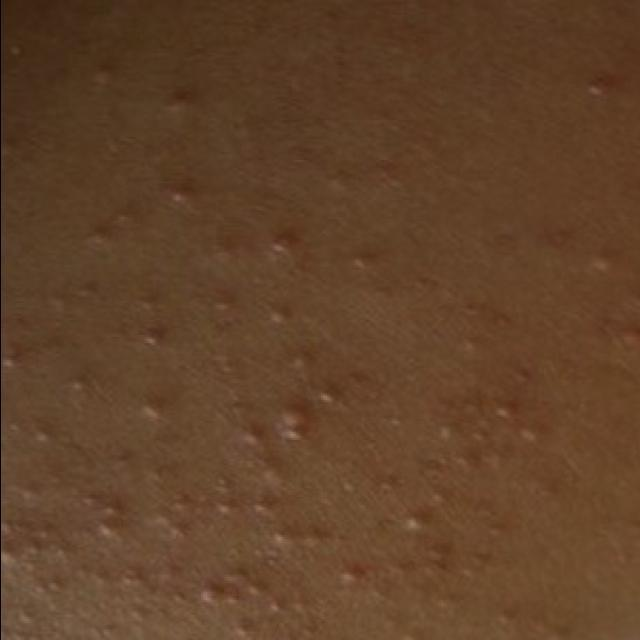keratosis pilaris: (0, 173, 527, 640)
